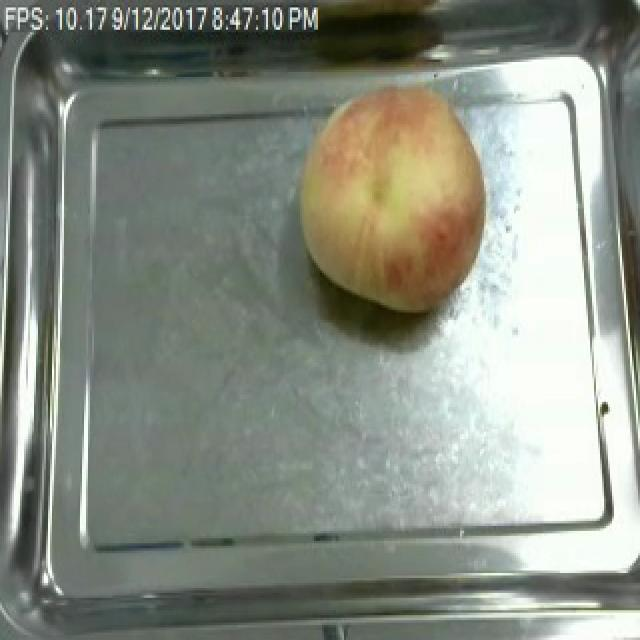Fruit: (288, 72, 500, 322)
